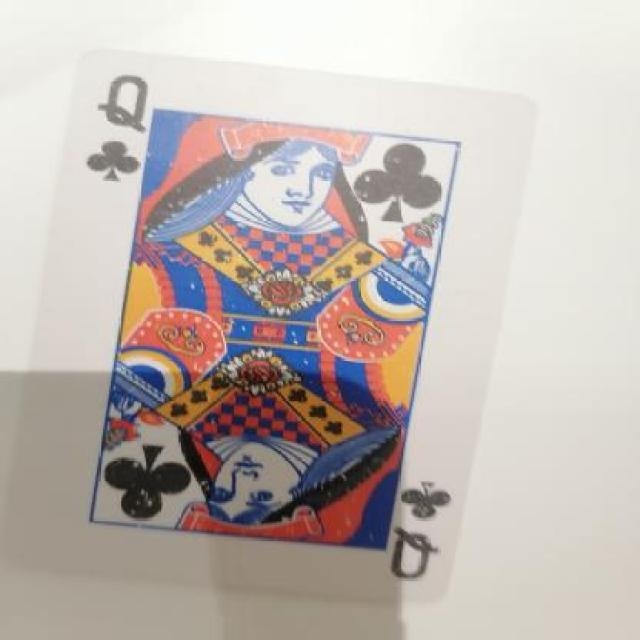QC: (64, 67, 178, 205), (387, 454, 459, 598)
